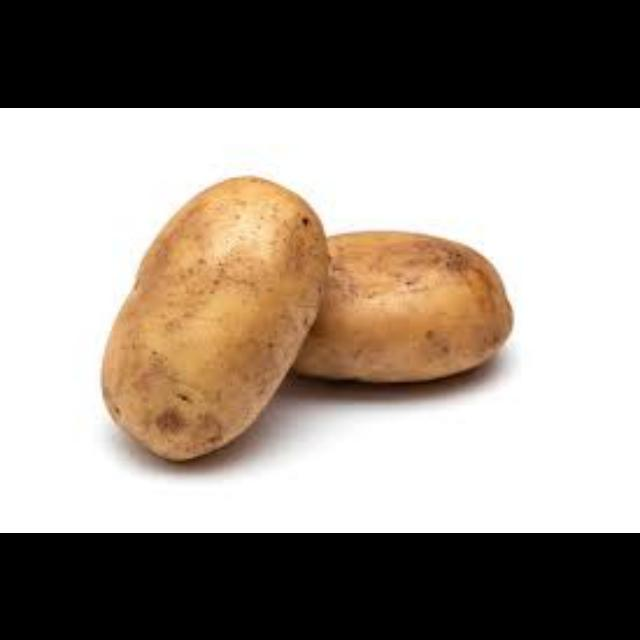Potato: (98, 172, 328, 466), (288, 206, 518, 410)
